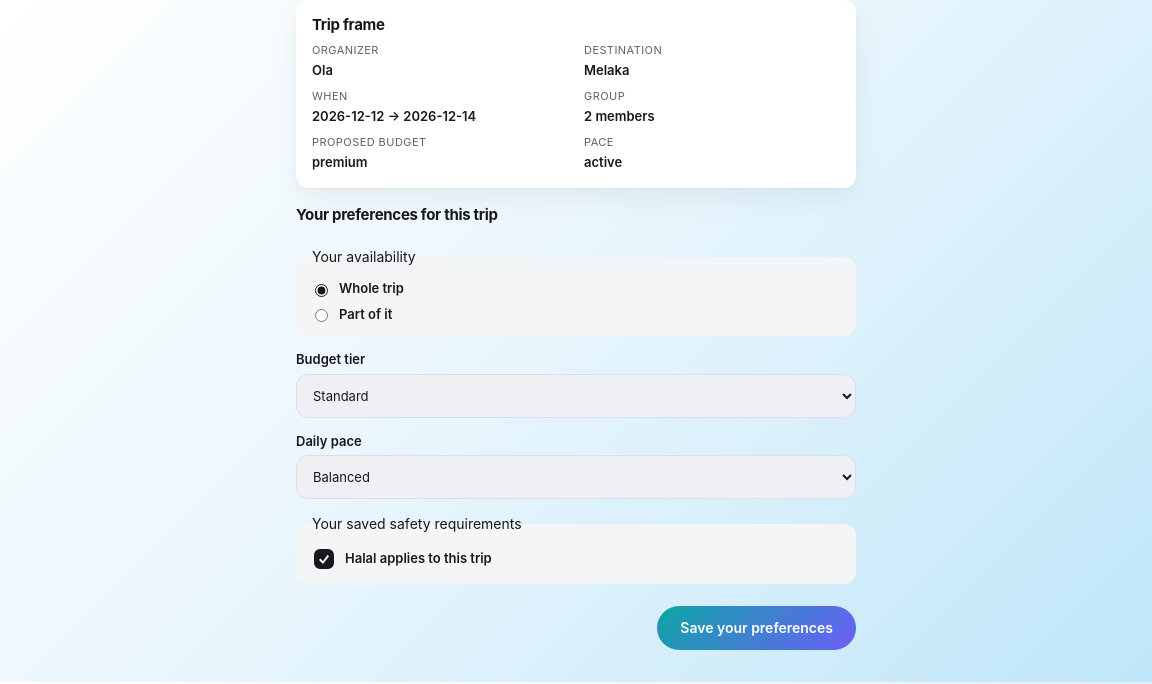
MemberEntryPanel › surfaces a server error and does not show Saved
This screenshot has width=1152, height=684.
Click the button "Save your preferences".
click(757, 628)  # box [657, 606, 856, 650]
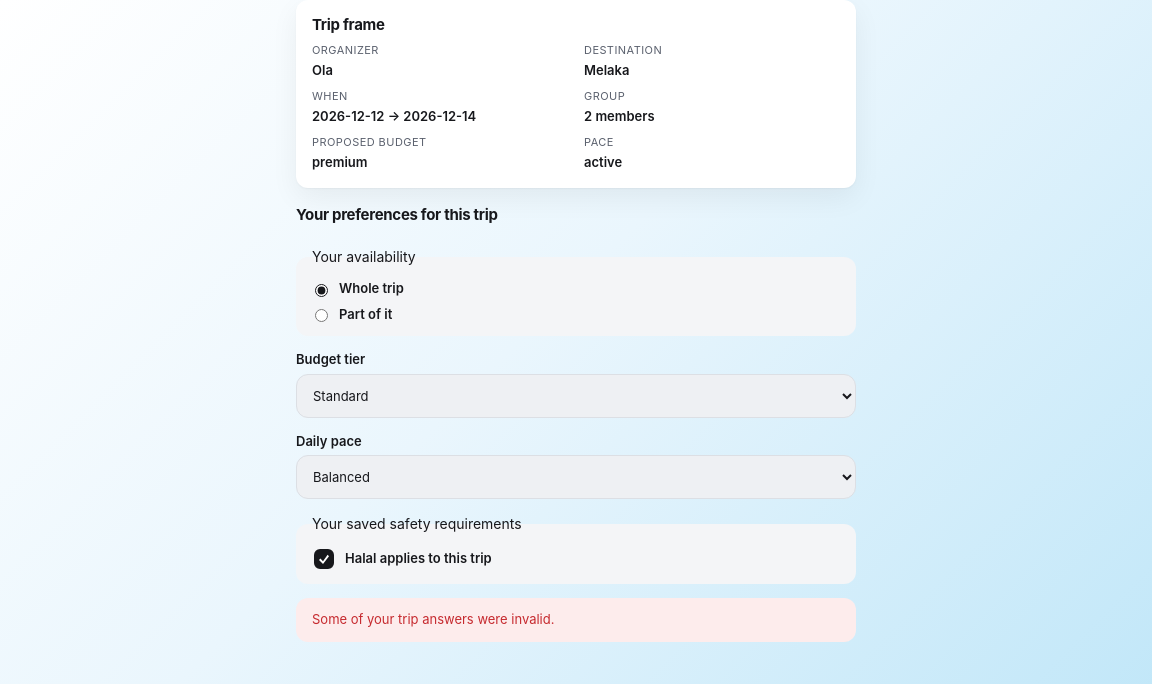
Now the text "Some of your trip answers were invalid." is shown, box [312, 611, 554, 627]
